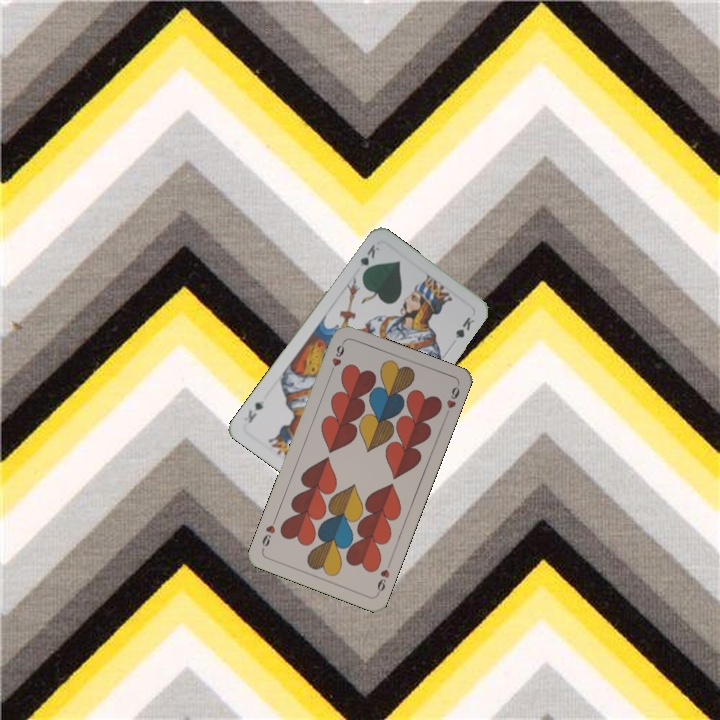GK: (356, 240, 382, 278)
H9: (373, 558, 394, 597), (326, 338, 347, 377)
